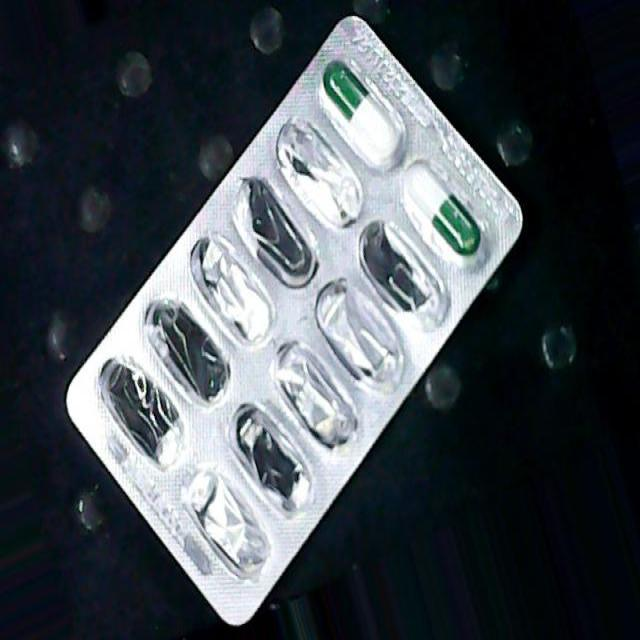-Hazardous waste - medicine inner packaging-: (64, 15, 521, 626)
